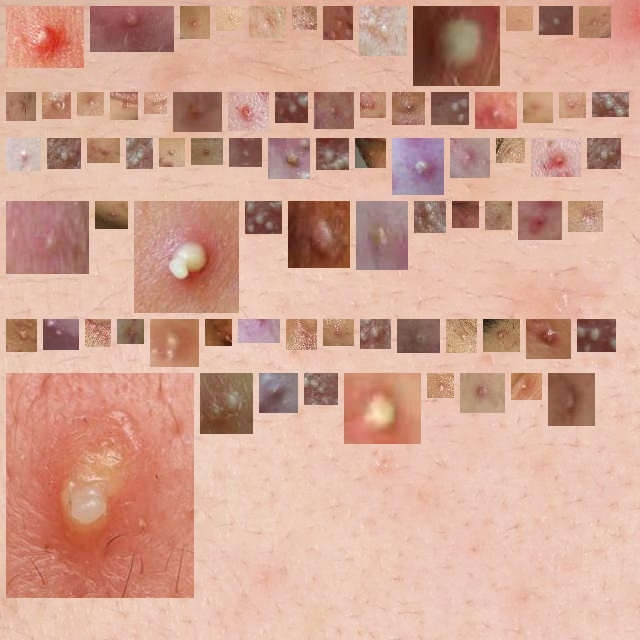pustule: (14, 381, 186, 590), (142, 209, 231, 305), (421, 14, 492, 78), (14, 209, 81, 266), (352, 381, 413, 436), (14, 14, 76, 60), (296, 209, 342, 260), (98, 14, 166, 44), (364, 209, 400, 262), (208, 381, 245, 426), (400, 146, 436, 187), (556, 381, 587, 418), (367, 14, 399, 48), (158, 327, 191, 359), (181, 100, 214, 124), (539, 146, 573, 169), (534, 327, 563, 351), (468, 381, 497, 405), (276, 146, 302, 171), (405, 327, 432, 351), (526, 209, 554, 232), (458, 146, 482, 170), (236, 100, 261, 123), (267, 381, 290, 405), (483, 100, 509, 121), (322, 100, 346, 121), (585, 327, 608, 344), (439, 100, 461, 117), (253, 209, 274, 226), (491, 327, 512, 344), (257, 14, 278, 30), (14, 146, 33, 163), (51, 327, 71, 342), (400, 100, 417, 117), (312, 381, 330, 397), (576, 209, 595, 224), (324, 146, 341, 162), (55, 146, 73, 161), (595, 146, 613, 161), (454, 327, 469, 345), (587, 14, 603, 30), (422, 209, 438, 225), (283, 100, 300, 115), (14, 327, 29, 344), (331, 14, 345, 32), (188, 14, 202, 31), (547, 14, 565, 27), (294, 327, 309, 342), (237, 146, 254, 159), (531, 100, 545, 115), (363, 146, 378, 160), (368, 327, 383, 341), (103, 209, 120, 221), (600, 100, 621, 109), (14, 100, 28, 113), (199, 146, 215, 157), (134, 146, 145, 161), (331, 327, 346, 338), (519, 381, 534, 392), (95, 146, 112, 155), (118, 100, 130, 112), (50, 100, 63, 111), (493, 209, 504, 222), (167, 146, 177, 159), (460, 209, 471, 220), (213, 327, 224, 338), (93, 327, 103, 339), (504, 146, 517, 155), (567, 100, 578, 110), (368, 100, 378, 110), (224, 14, 235, 23), (514, 14, 525, 23), (125, 327, 136, 336), (435, 381, 446, 390), (85, 100, 96, 108), (300, 14, 309, 22), (152, 100, 159, 106)
